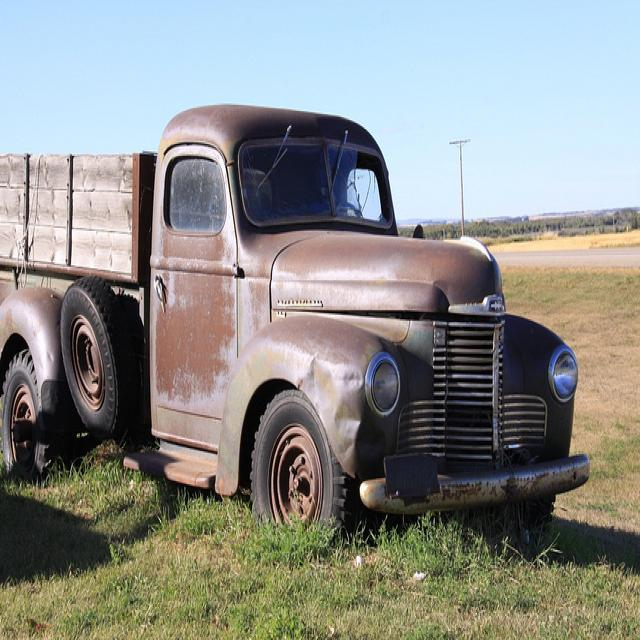Vehicle: (2, 99, 590, 550)
